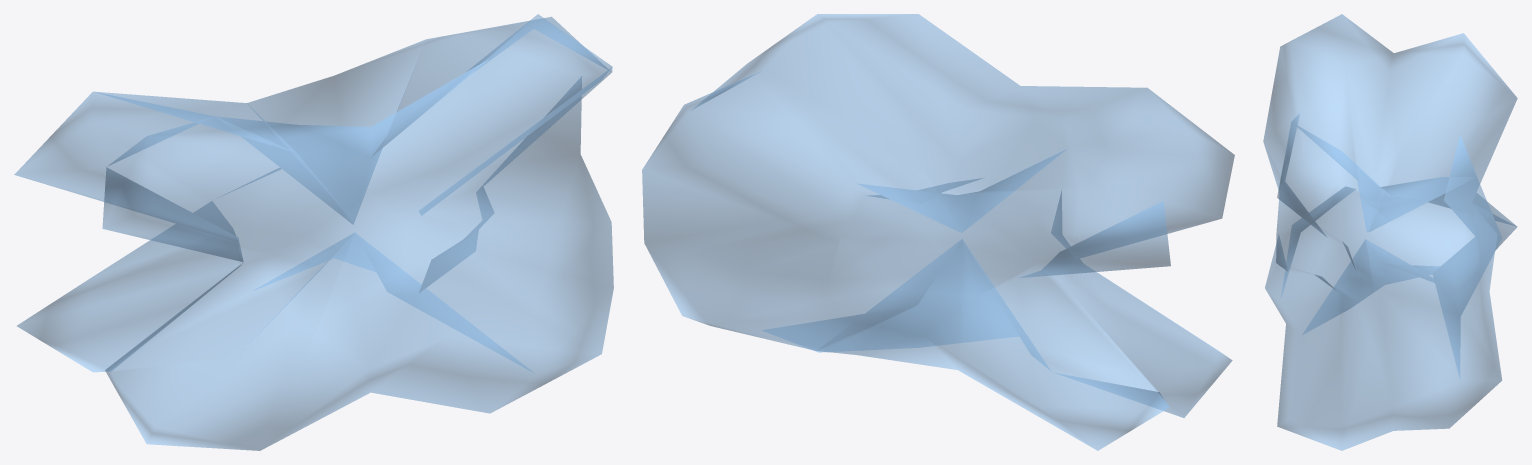
The model's file is ssesp_shield.gltf.
The picture shows the model from 3 angles, left to right: view 1: azimuth 30°, elevation 25°; view 2: azimuth 150°, elevation 25°; view 3: azimuth 270°, elevation 25°; orthographic projection. The views are drawn at different scales.
Visible parts, largest first — view 1: ssesp.shield; view 2: ssesp.shield; view 3: ssesp.shield.
Boxes of the visible parts, bbox=[...] form: ssesp.shield: bbox=[14, 14, 613, 450]; ssesp.shield: bbox=[642, 14, 1234, 450]; ssesp.shield: bbox=[1263, 14, 1517, 450].
Size of the model in its own units: 26.26 by 15.98 by 12.26.
